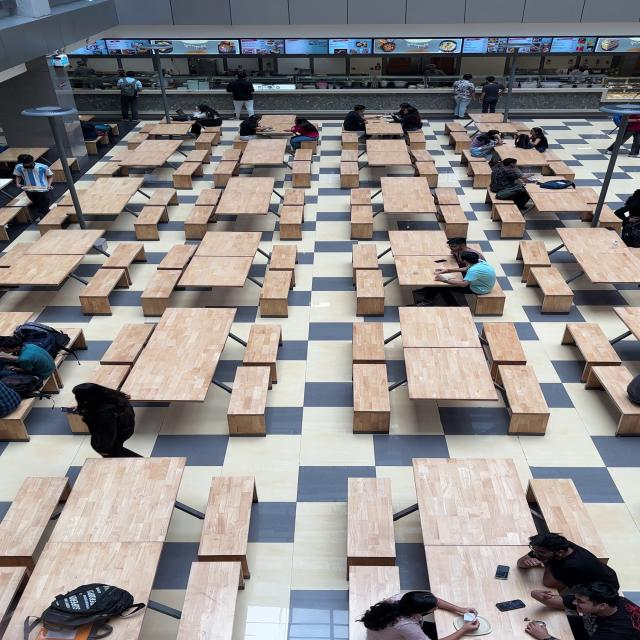Occupied: (17, 547, 171, 640), (424, 553, 582, 640), (114, 386, 215, 462), (520, 538, 626, 604), (539, 589, 640, 640), (364, 598, 461, 640), (349, 572, 405, 637), (0, 341, 60, 390), (397, 261, 467, 295), (488, 161, 534, 205), (452, 257, 501, 298), (14, 326, 73, 360), (440, 242, 490, 276), (284, 122, 324, 159), (0, 375, 51, 403), (337, 102, 373, 140), (238, 119, 275, 148), (523, 181, 580, 196), (475, 134, 503, 164), (191, 109, 229, 130), (396, 108, 424, 135), (526, 132, 553, 159), (159, 115, 204, 129), (498, 142, 534, 157), (258, 129, 297, 138), (364, 120, 393, 128)
Unoccupied: (45, 462, 193, 552), (414, 462, 540, 552), (123, 318, 240, 409), (0, 482, 72, 576), (194, 480, 262, 566), (403, 352, 500, 409), (174, 566, 245, 640), (63, 369, 137, 439), (553, 233, 640, 292), (346, 482, 398, 576), (535, 483, 594, 563), (128, 364, 219, 415), (495, 368, 554, 441), (226, 370, 276, 443), (211, 180, 283, 230), (399, 313, 485, 354), (0, 256, 92, 294), (174, 259, 260, 296), (109, 145, 188, 185), (353, 368, 399, 432), (377, 180, 441, 223), (242, 331, 286, 392), (98, 329, 161, 371), (22, 232, 112, 260), (529, 271, 580, 318), (78, 274, 131, 318), (235, 144, 294, 183), (568, 329, 624, 369), (87, 183, 142, 223), (191, 234, 267, 262), (138, 274, 186, 318), (0, 573, 32, 639), (99, 248, 148, 291), (481, 328, 531, 370), (259, 274, 299, 321), (386, 234, 448, 262), (434, 192, 472, 237), (355, 329, 396, 370), (518, 244, 556, 288), (0, 151, 53, 182), (354, 275, 388, 321), (491, 204, 530, 243), (526, 222, 594, 244), (0, 194, 40, 229), (583, 207, 629, 236), (268, 249, 301, 289), (157, 248, 202, 277), (371, 155, 418, 182), (533, 195, 586, 218), (185, 210, 226, 238), (37, 210, 78, 238), (171, 164, 209, 194), (498, 152, 552, 173), (0, 246, 39, 275), (216, 152, 249, 185), (278, 208, 308, 244), (410, 163, 443, 194), (0, 316, 36, 343), (136, 208, 167, 239), (476, 126, 526, 145), (544, 162, 580, 188), (181, 153, 215, 180), (290, 162, 317, 193), (339, 162, 365, 194), (408, 152, 440, 178), (467, 164, 496, 192), (449, 135, 476, 162), (369, 138, 409, 156), (195, 135, 224, 157), (92, 166, 127, 184), (350, 192, 377, 214), (127, 136, 158, 155), (282, 192, 309, 213), (468, 118, 514, 130), (156, 140, 198, 153), (405, 135, 431, 156), (341, 135, 364, 158), (146, 194, 182, 208), (55, 194, 80, 213), (164, 126, 199, 139), (296, 141, 322, 157), (293, 152, 318, 168), (264, 118, 300, 128), (366, 132, 404, 140), (515, 139, 534, 155), (201, 194, 218, 211), (60, 160, 78, 175), (140, 128, 164, 138)
